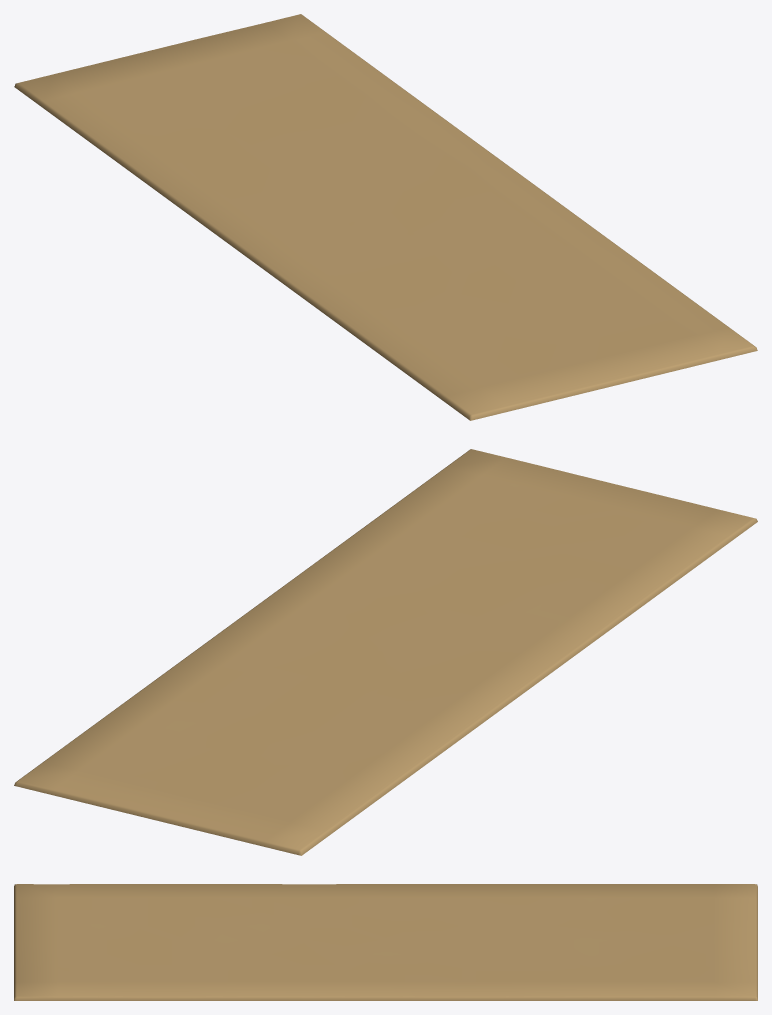
Rendered from rug.glb.
3 renders of one model, top to bottom at view 1: azimuth 30°, elevation 25°; view 2: azimuth 150°, elevation 25°; view 3: azimuth 270°, elevation 25°, orthographic. The views are drawn at different scales.
Visible parts, largest first — view 1: rug_entre; view 2: rug_entre; view 3: rug_entre.
Boxes of the visible parts, x1,y1,x2,y2 form: rug_entre: [14, 14, 757, 420]; rug_entre: [14, 449, 757, 855]; rug_entre: [14, 884, 757, 1000].
Size of the model in its own units: 0.8001 by 0.0126 by 2.2.
